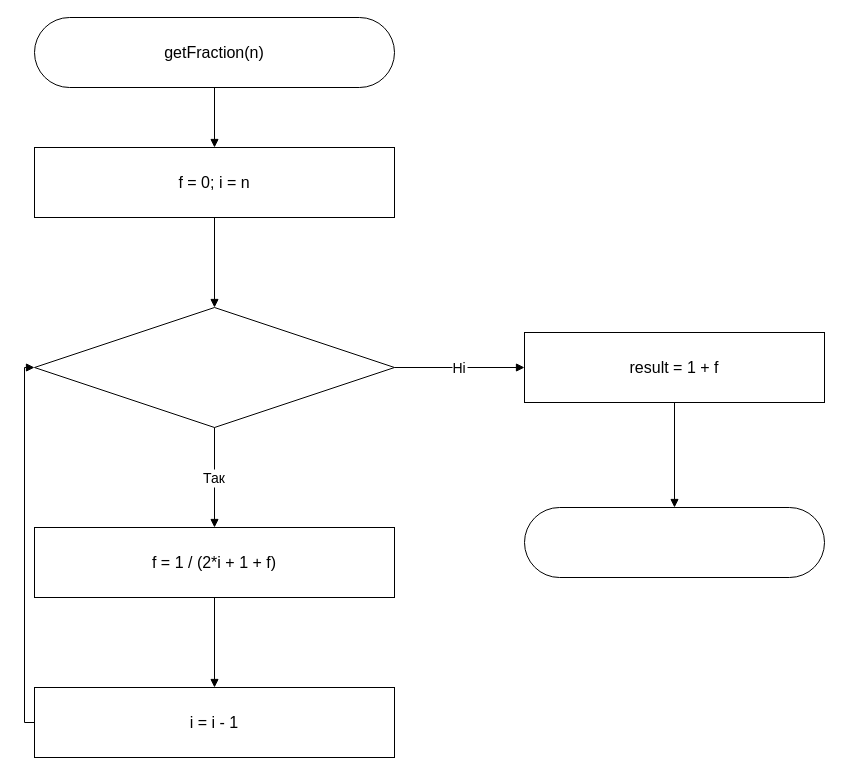
The diagram is 842 pixels wide and 775 high, and some of its shapes have lost their labels. Each missing label, with the centre of its shape:
i ≥ 1?: [214,367]
Повернути result: [674,542]
